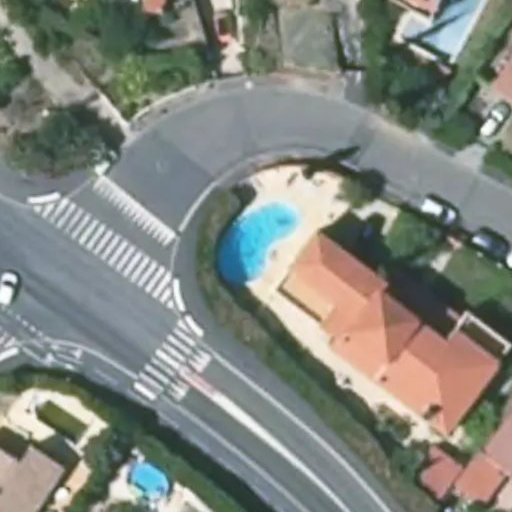pool: (211, 201, 296, 288), (126, 461, 175, 500)
